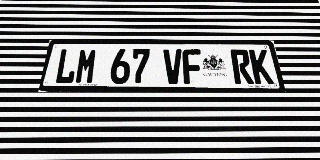6: (110, 49, 131, 84)
7: (130, 49, 150, 84)
F: (182, 49, 203, 84)
K: (249, 49, 274, 84)
L: (54, 49, 79, 84)
M: (74, 49, 98, 84)
R: (230, 49, 254, 84)
V: (163, 49, 183, 84)
